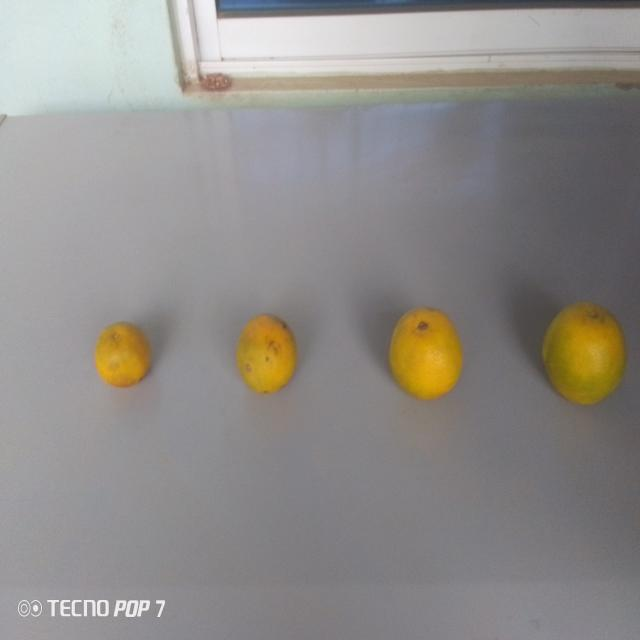Ripe orange: (532, 292, 628, 409), (388, 295, 468, 413), (237, 310, 320, 414), (88, 305, 166, 400)
